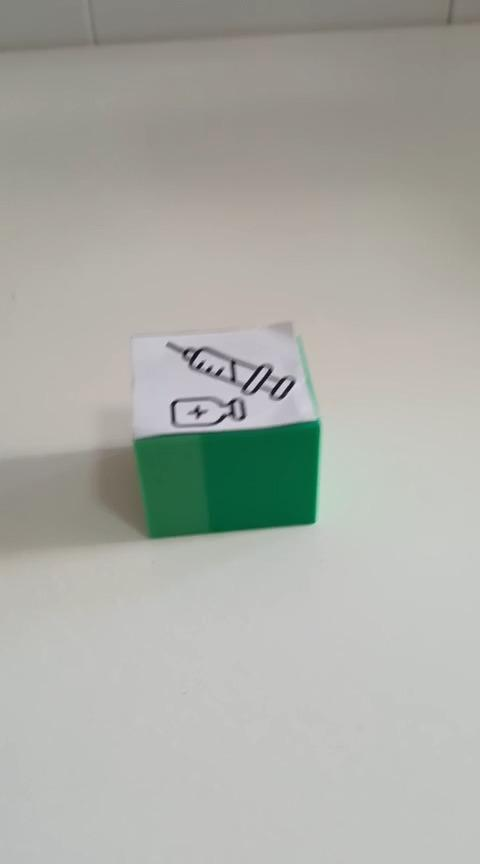antiseptic cream: (128, 319, 322, 539)
